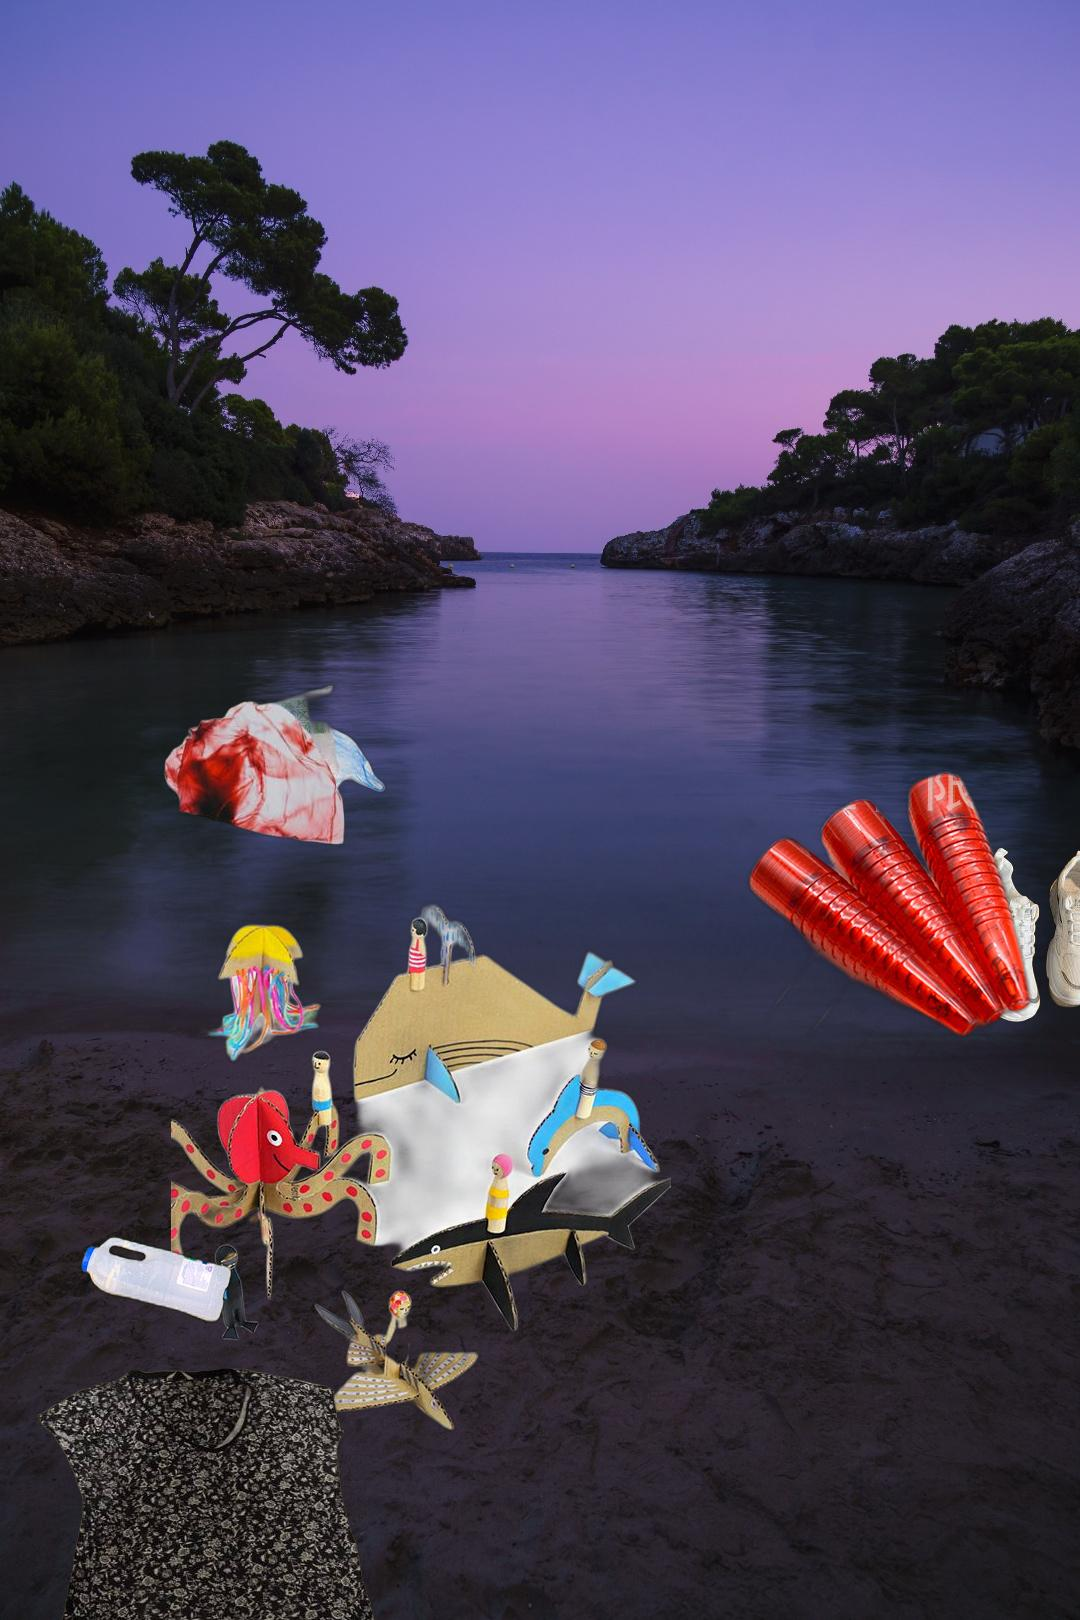clothes: (33, 1363, 397, 1620)
penholder: (369, 392, 1037, 1102)
plastic-bag: (162, 681, 389, 849)
plastic-bottles: (77, 1229, 236, 1328)
shoes: (912, 845, 1080, 1029)
trashbox-cardboard: (171, 868, 671, 1436)
